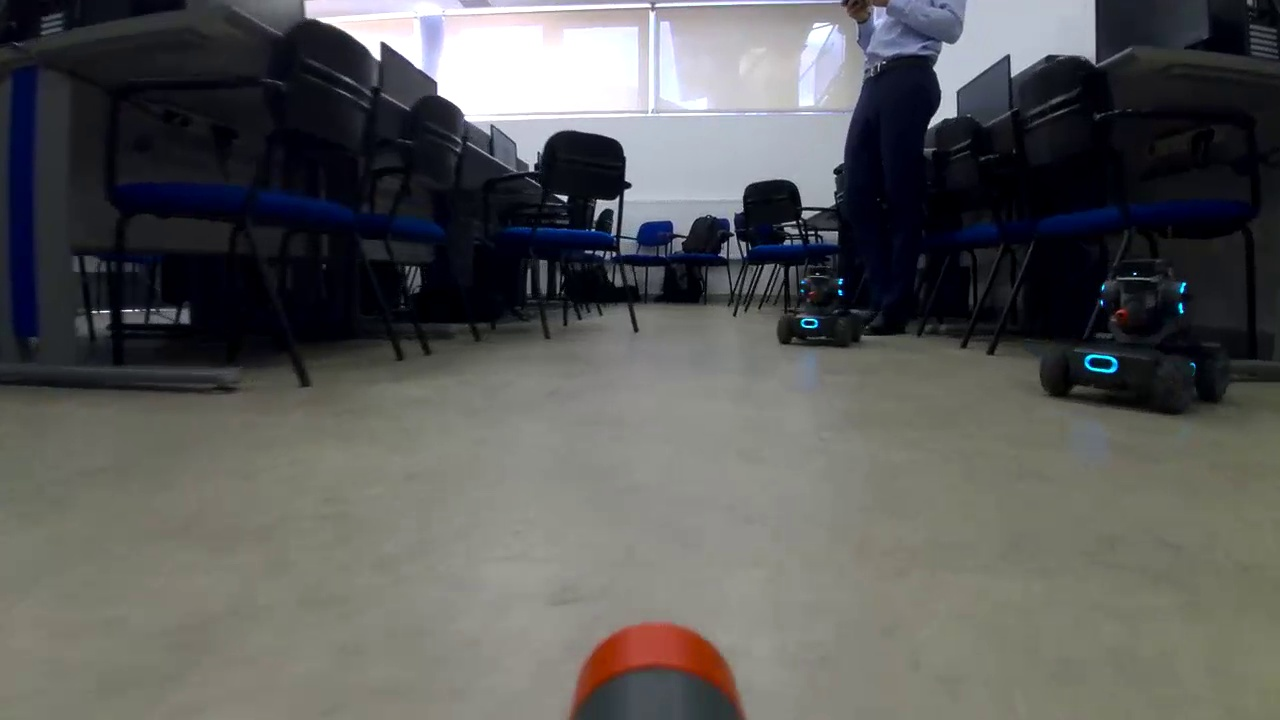robot: (1026, 249, 1241, 420), (773, 270, 871, 353)
